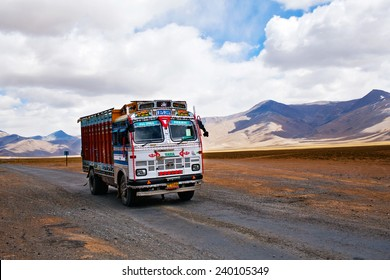truck: (77, 100, 204, 206)
